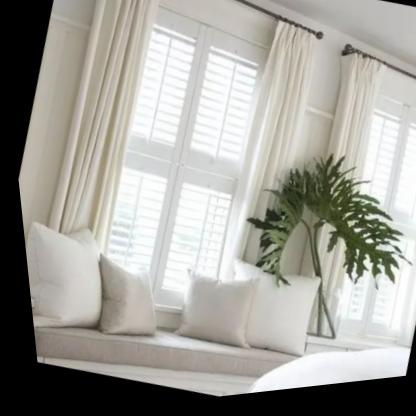Curtains: (48, 0, 318, 305), (288, 52, 416, 364)
